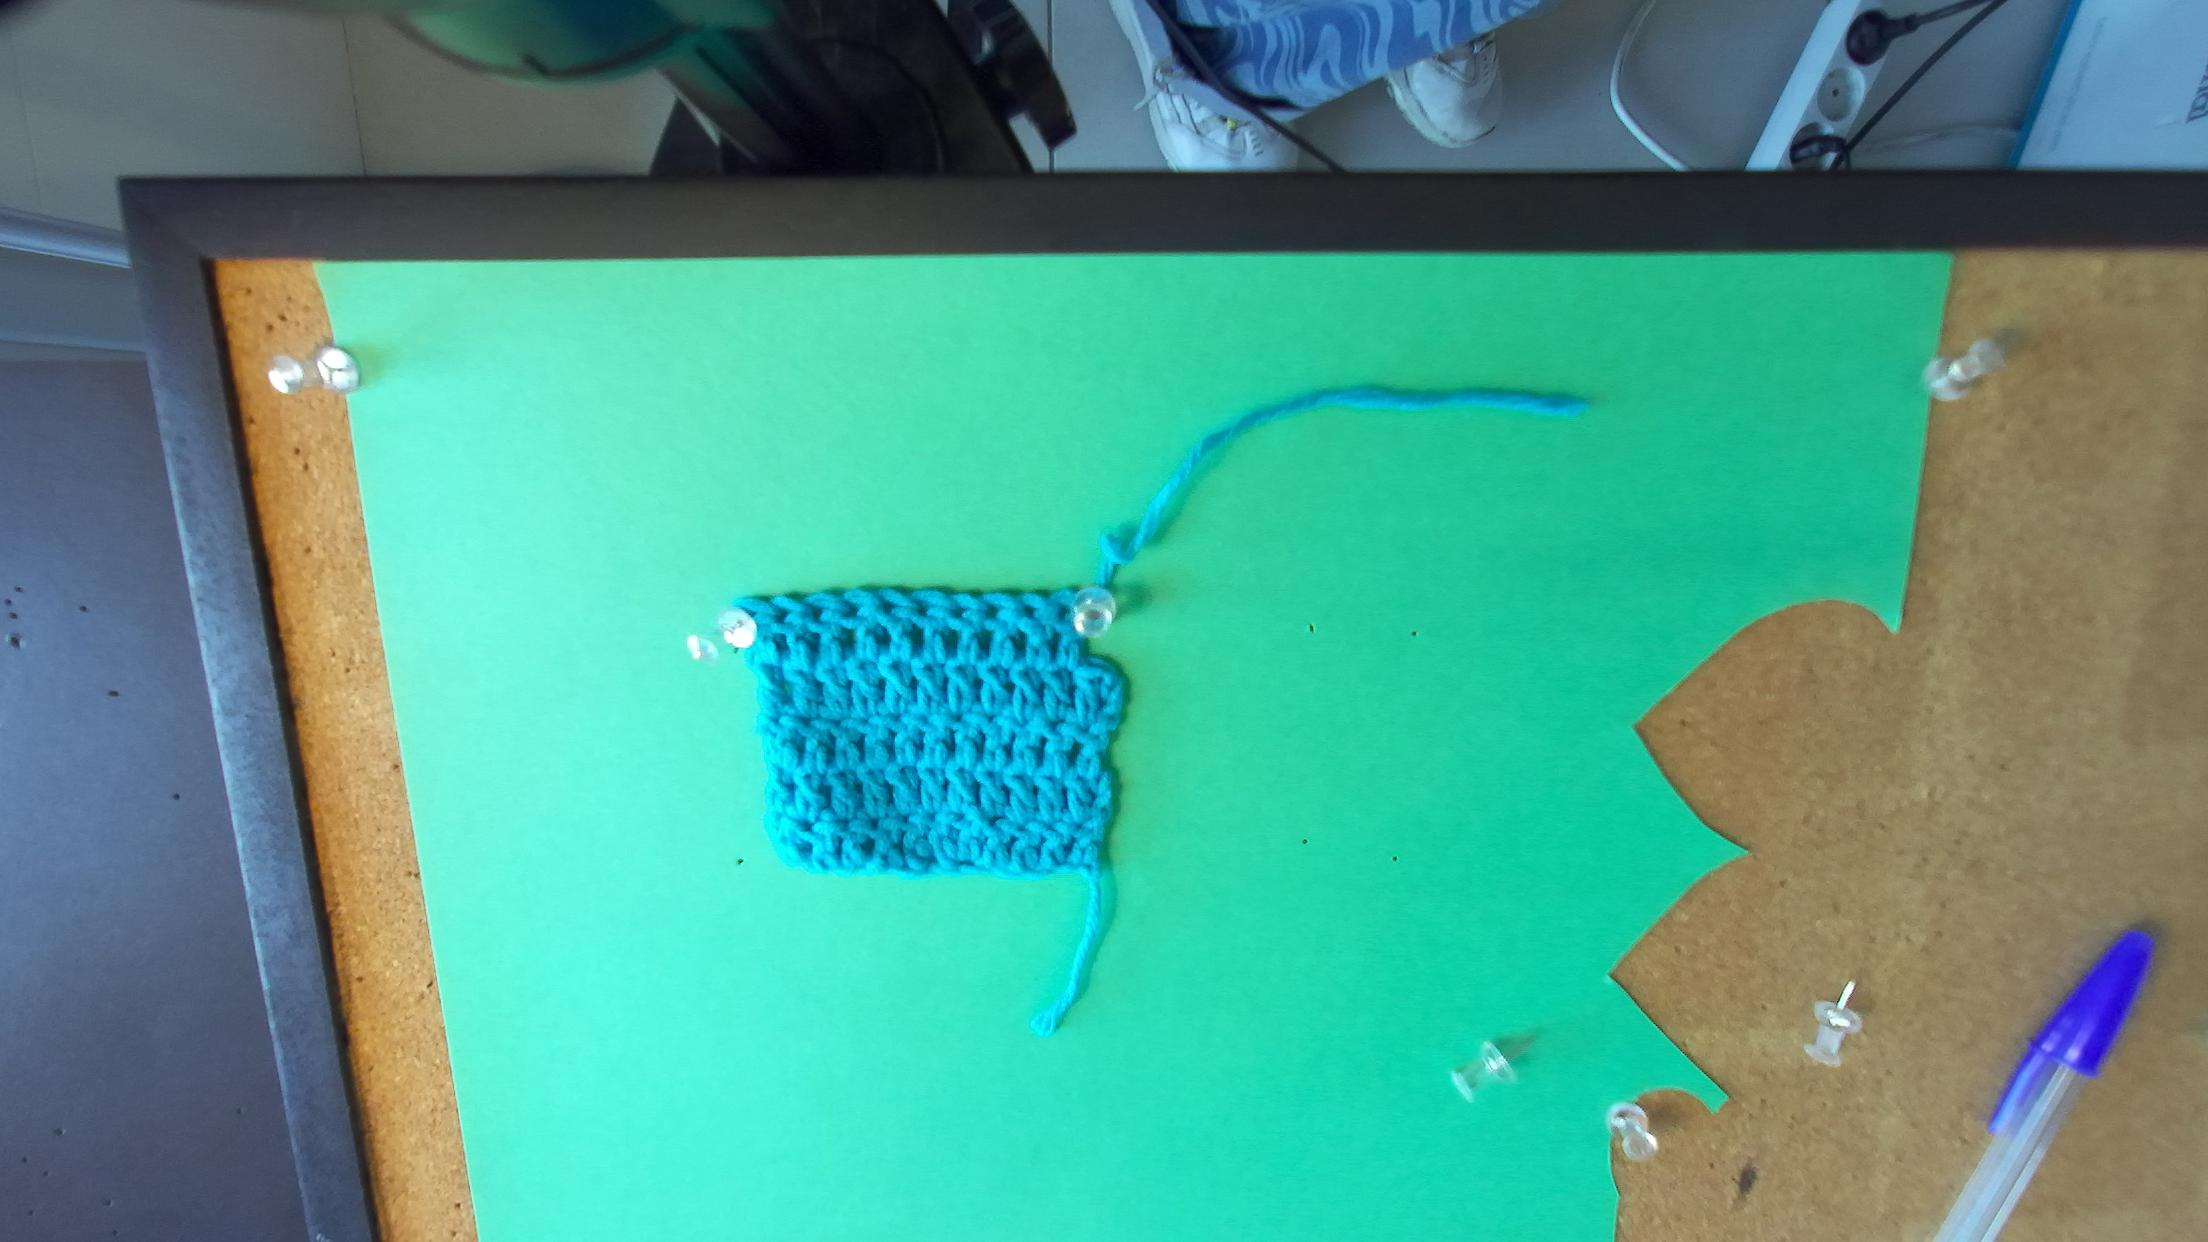hole: (840, 600, 861, 619), (773, 605, 793, 624), (912, 600, 933, 618), (981, 604, 1002, 619), (881, 598, 897, 616), (948, 602, 966, 618), (810, 606, 826, 622), (1057, 605, 1071, 623), (1021, 604, 1036, 617)
swatch: (714, 587, 1126, 877)
